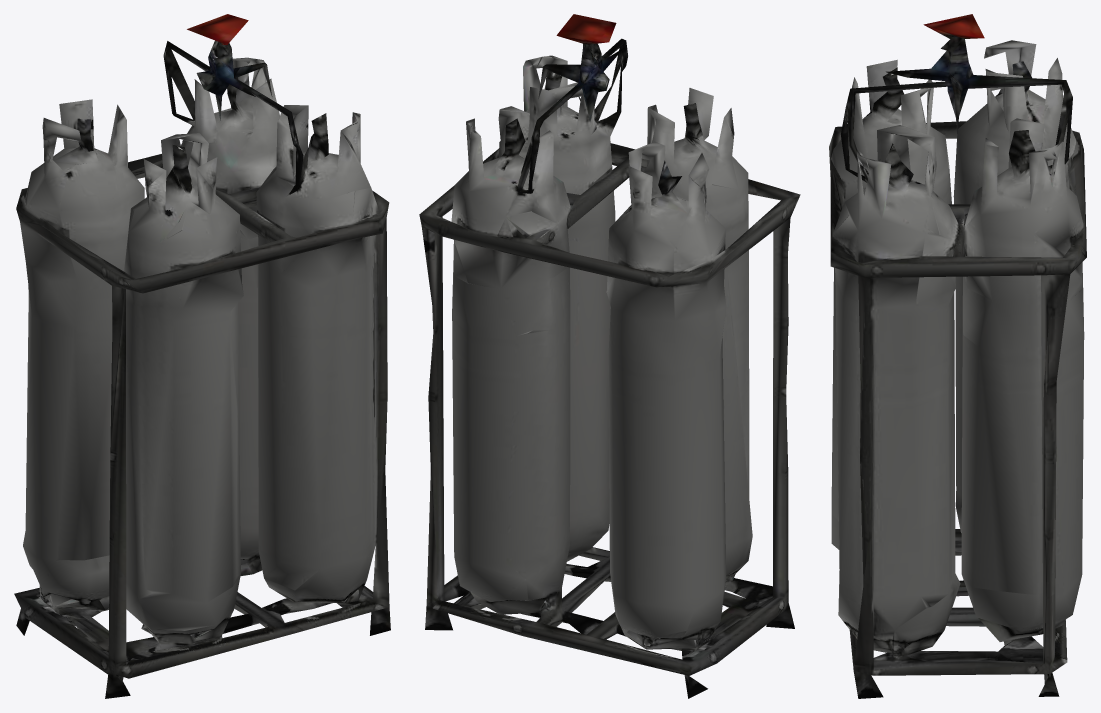
Rendered from gas_cylinder_rack.glb.
3 views of the same model, side by side, from view 1: azimuth 30°, elevation 25°; view 2: azimuth 150°, elevation 25°; view 3: azimuth 270°, elevation 25° (orthographic). The views are drawn at different scales.
Visible parts, largest first — view 1: Model; view 2: Model; view 3: Model.
Boxes of the visible parts, bbox=[...] form: Model: bbox=[14, 14, 390, 698]; Model: bbox=[419, 14, 800, 698]; Model: bbox=[829, 14, 1086, 698].
Bounding box in the file's own units: 0.7885 × 1.59 × 0.6003.
Materials: 1 (1 with a texture image).
